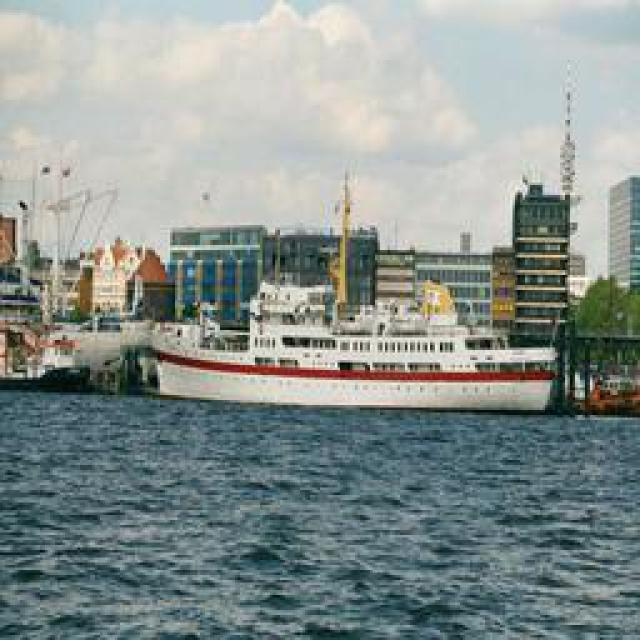Ship: (152, 229, 562, 414)
